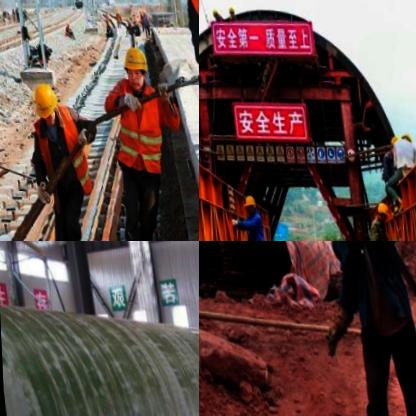helmet: (118, 37, 151, 87), (27, 75, 60, 125), (370, 191, 393, 223), (386, 126, 402, 150), (239, 190, 255, 210)
